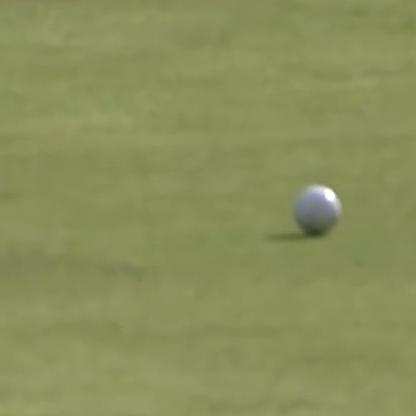golfball: (290, 180, 340, 231)
